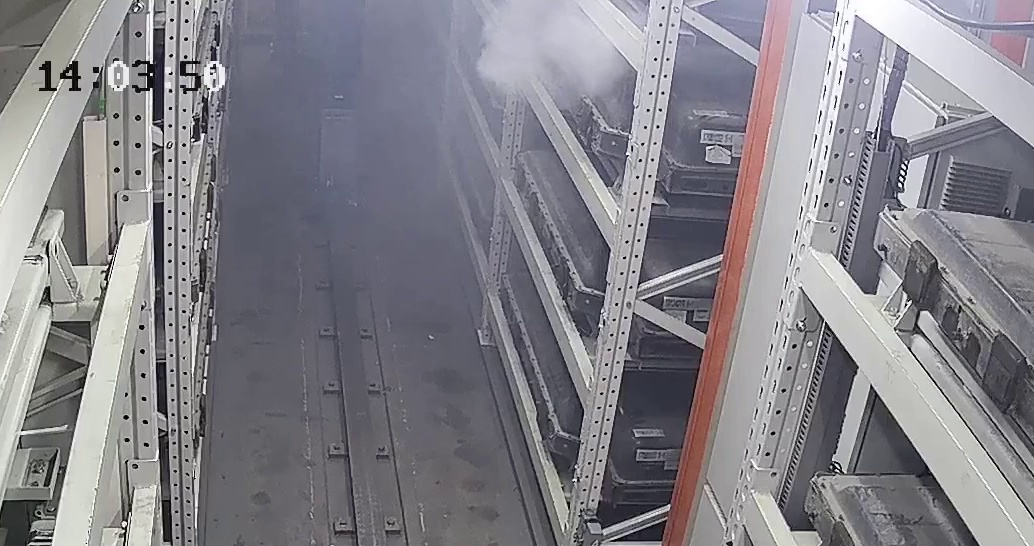smoke: (480, 10, 610, 102)
